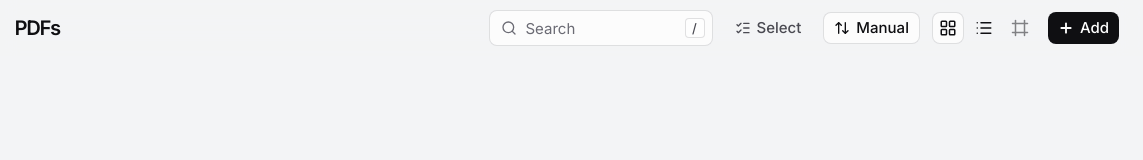
Test case: Toolbar › view toggle › disables canvas for a kind and explains why
Click the button named "Canvas view".
click(1020, 28)  # box [1004, 12, 1036, 44]
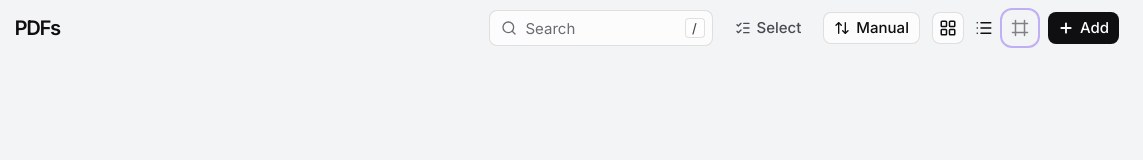
Hover over the button named "Canvas view".
mouse_move(1020, 28)  # box [1004, 12, 1036, 44]
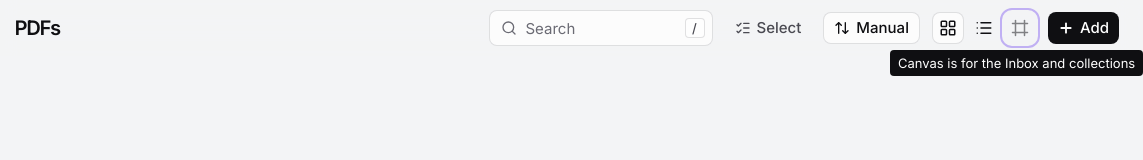
Check: the tooltip reads "Canvas is for the Inbox and collections", box [898, 55, 1135, 71]
